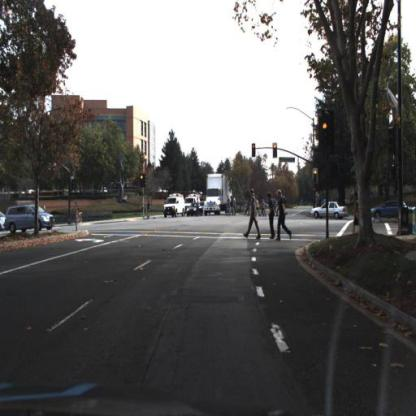biker: (75, 204, 87, 226)
car: (3, 202, 56, 234), (205, 173, 234, 214), (367, 197, 415, 220), (163, 192, 186, 222), (314, 201, 350, 219), (184, 198, 205, 218), (187, 199, 203, 216), (186, 193, 203, 208)
pedestrian: (244, 187, 262, 242), (275, 187, 293, 240), (267, 187, 277, 240), (352, 189, 362, 236), (146, 198, 154, 223)
trafficLight-Red: (321, 113, 333, 153), (319, 115, 331, 150), (271, 139, 279, 160), (312, 165, 319, 188)
trafficLight-RedLeft: (251, 143, 259, 159), (139, 172, 145, 192), (139, 173, 144, 190)
truck: (203, 172, 233, 217)
